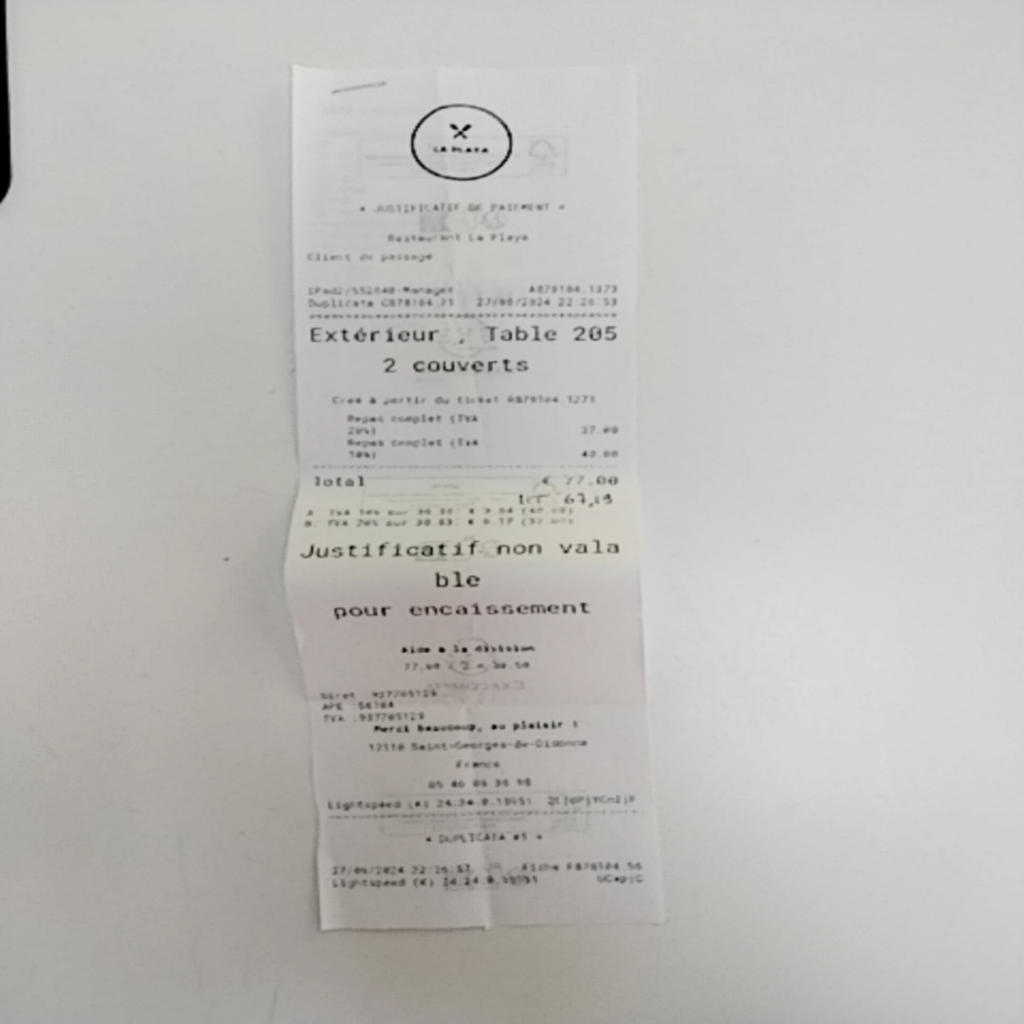recipt: (288, 65, 663, 932)
